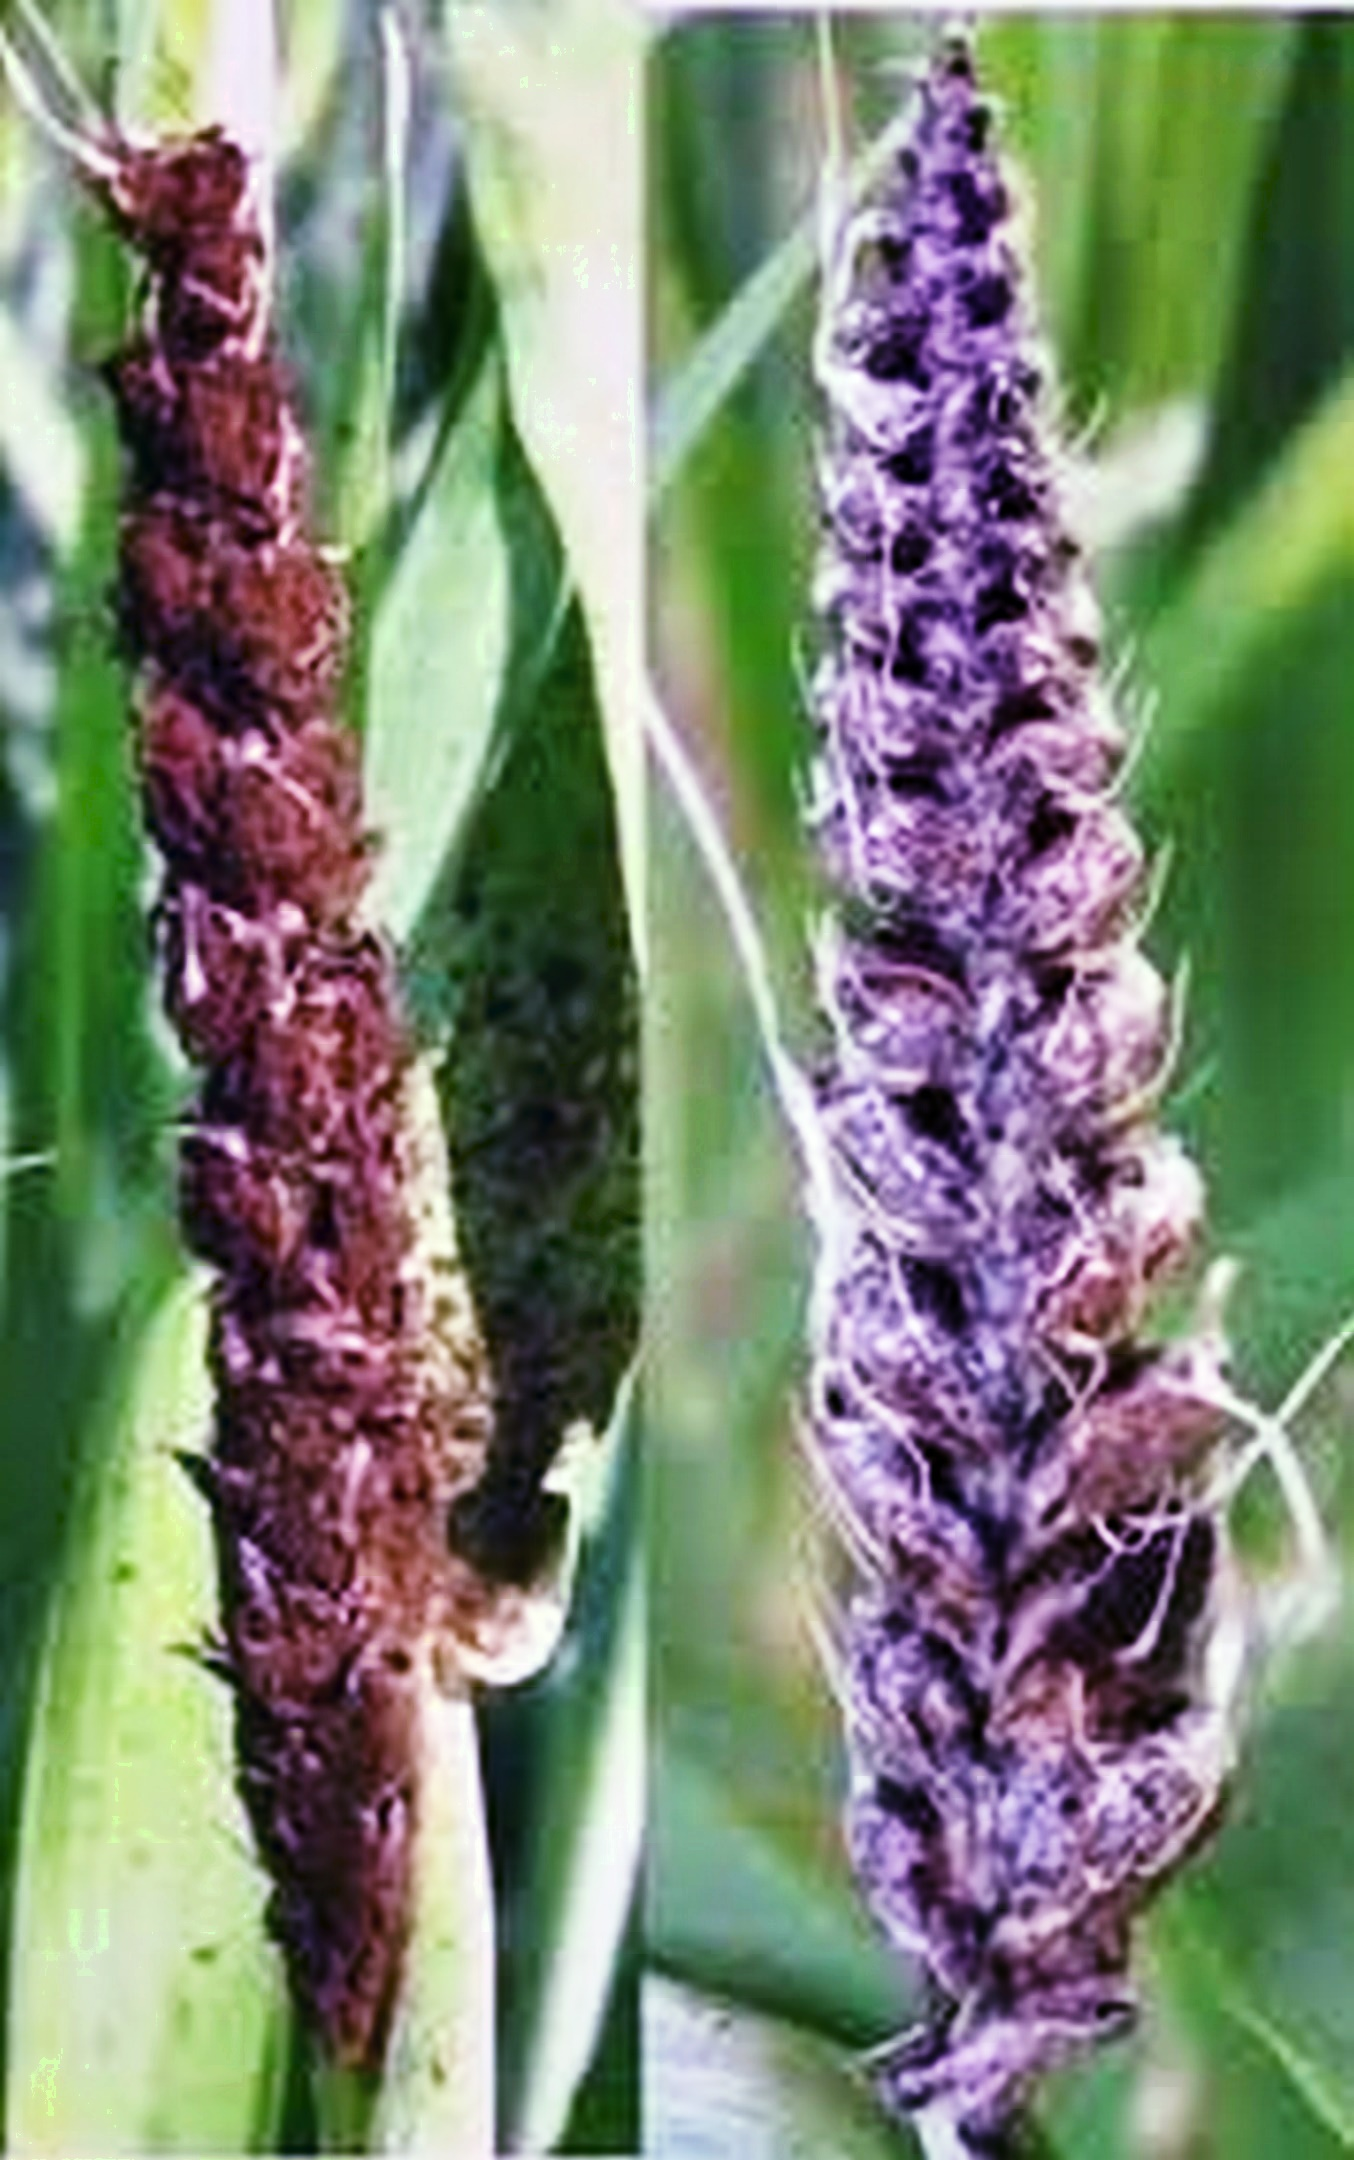Wheat Loose Smut: (755, 98, 1256, 1945), (73, 119, 487, 2006)
